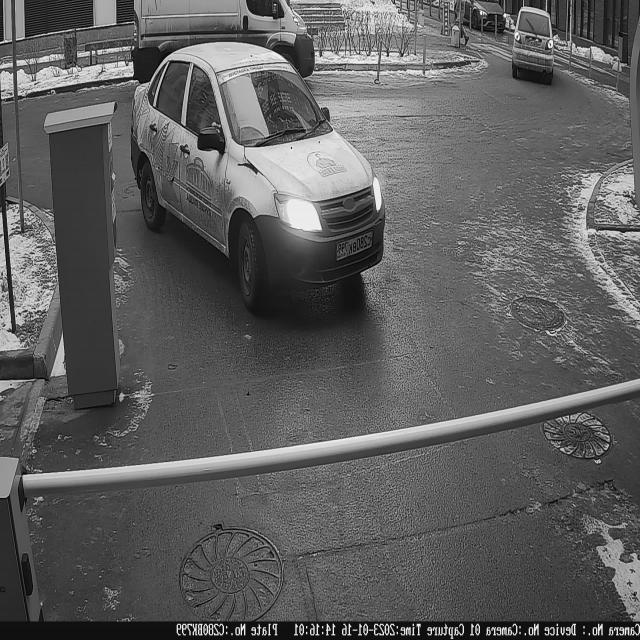car-plate-numbers: (336, 226, 377, 265)
